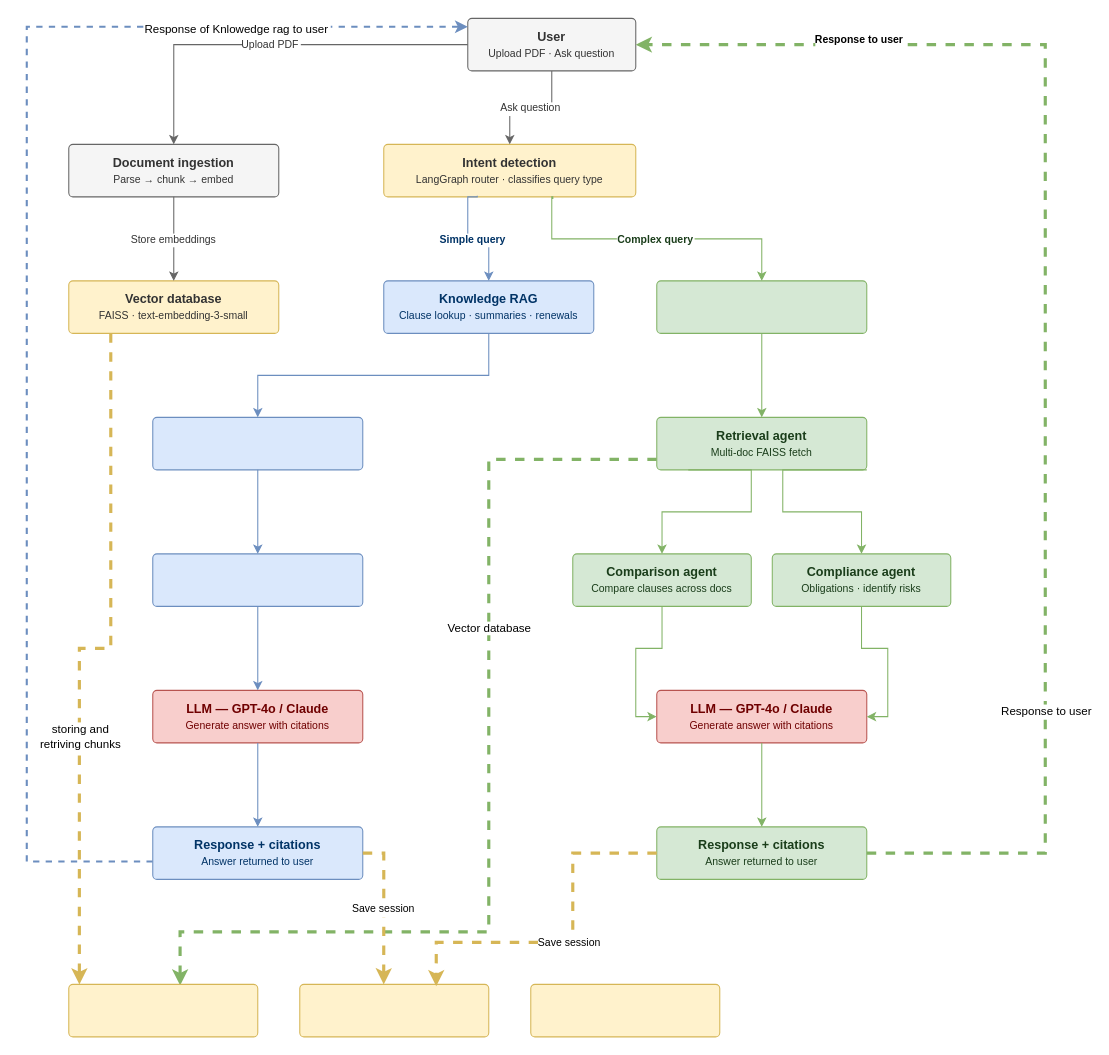
The diagram is 1109 pixels wide and 1055 high, and some of its shapes have lost their labels. Here are the shapes that lost their labels. From the top down, the centre of each, then its label:
At point (761, 306): "Agentic RAG doc · risk · compliance".
At point (257, 443): "Query embedding Embed user query → vector".
At point (257, 579): "Similarity search Top-k chunks from FAISS".
At point (163, 1010): "FAISS vector DB Chunk embeddings index".
At point (394, 1010): "SQLite Session + chat history".
At point (625, 1010): "Azure Blob storage Raw PDF file storage".
